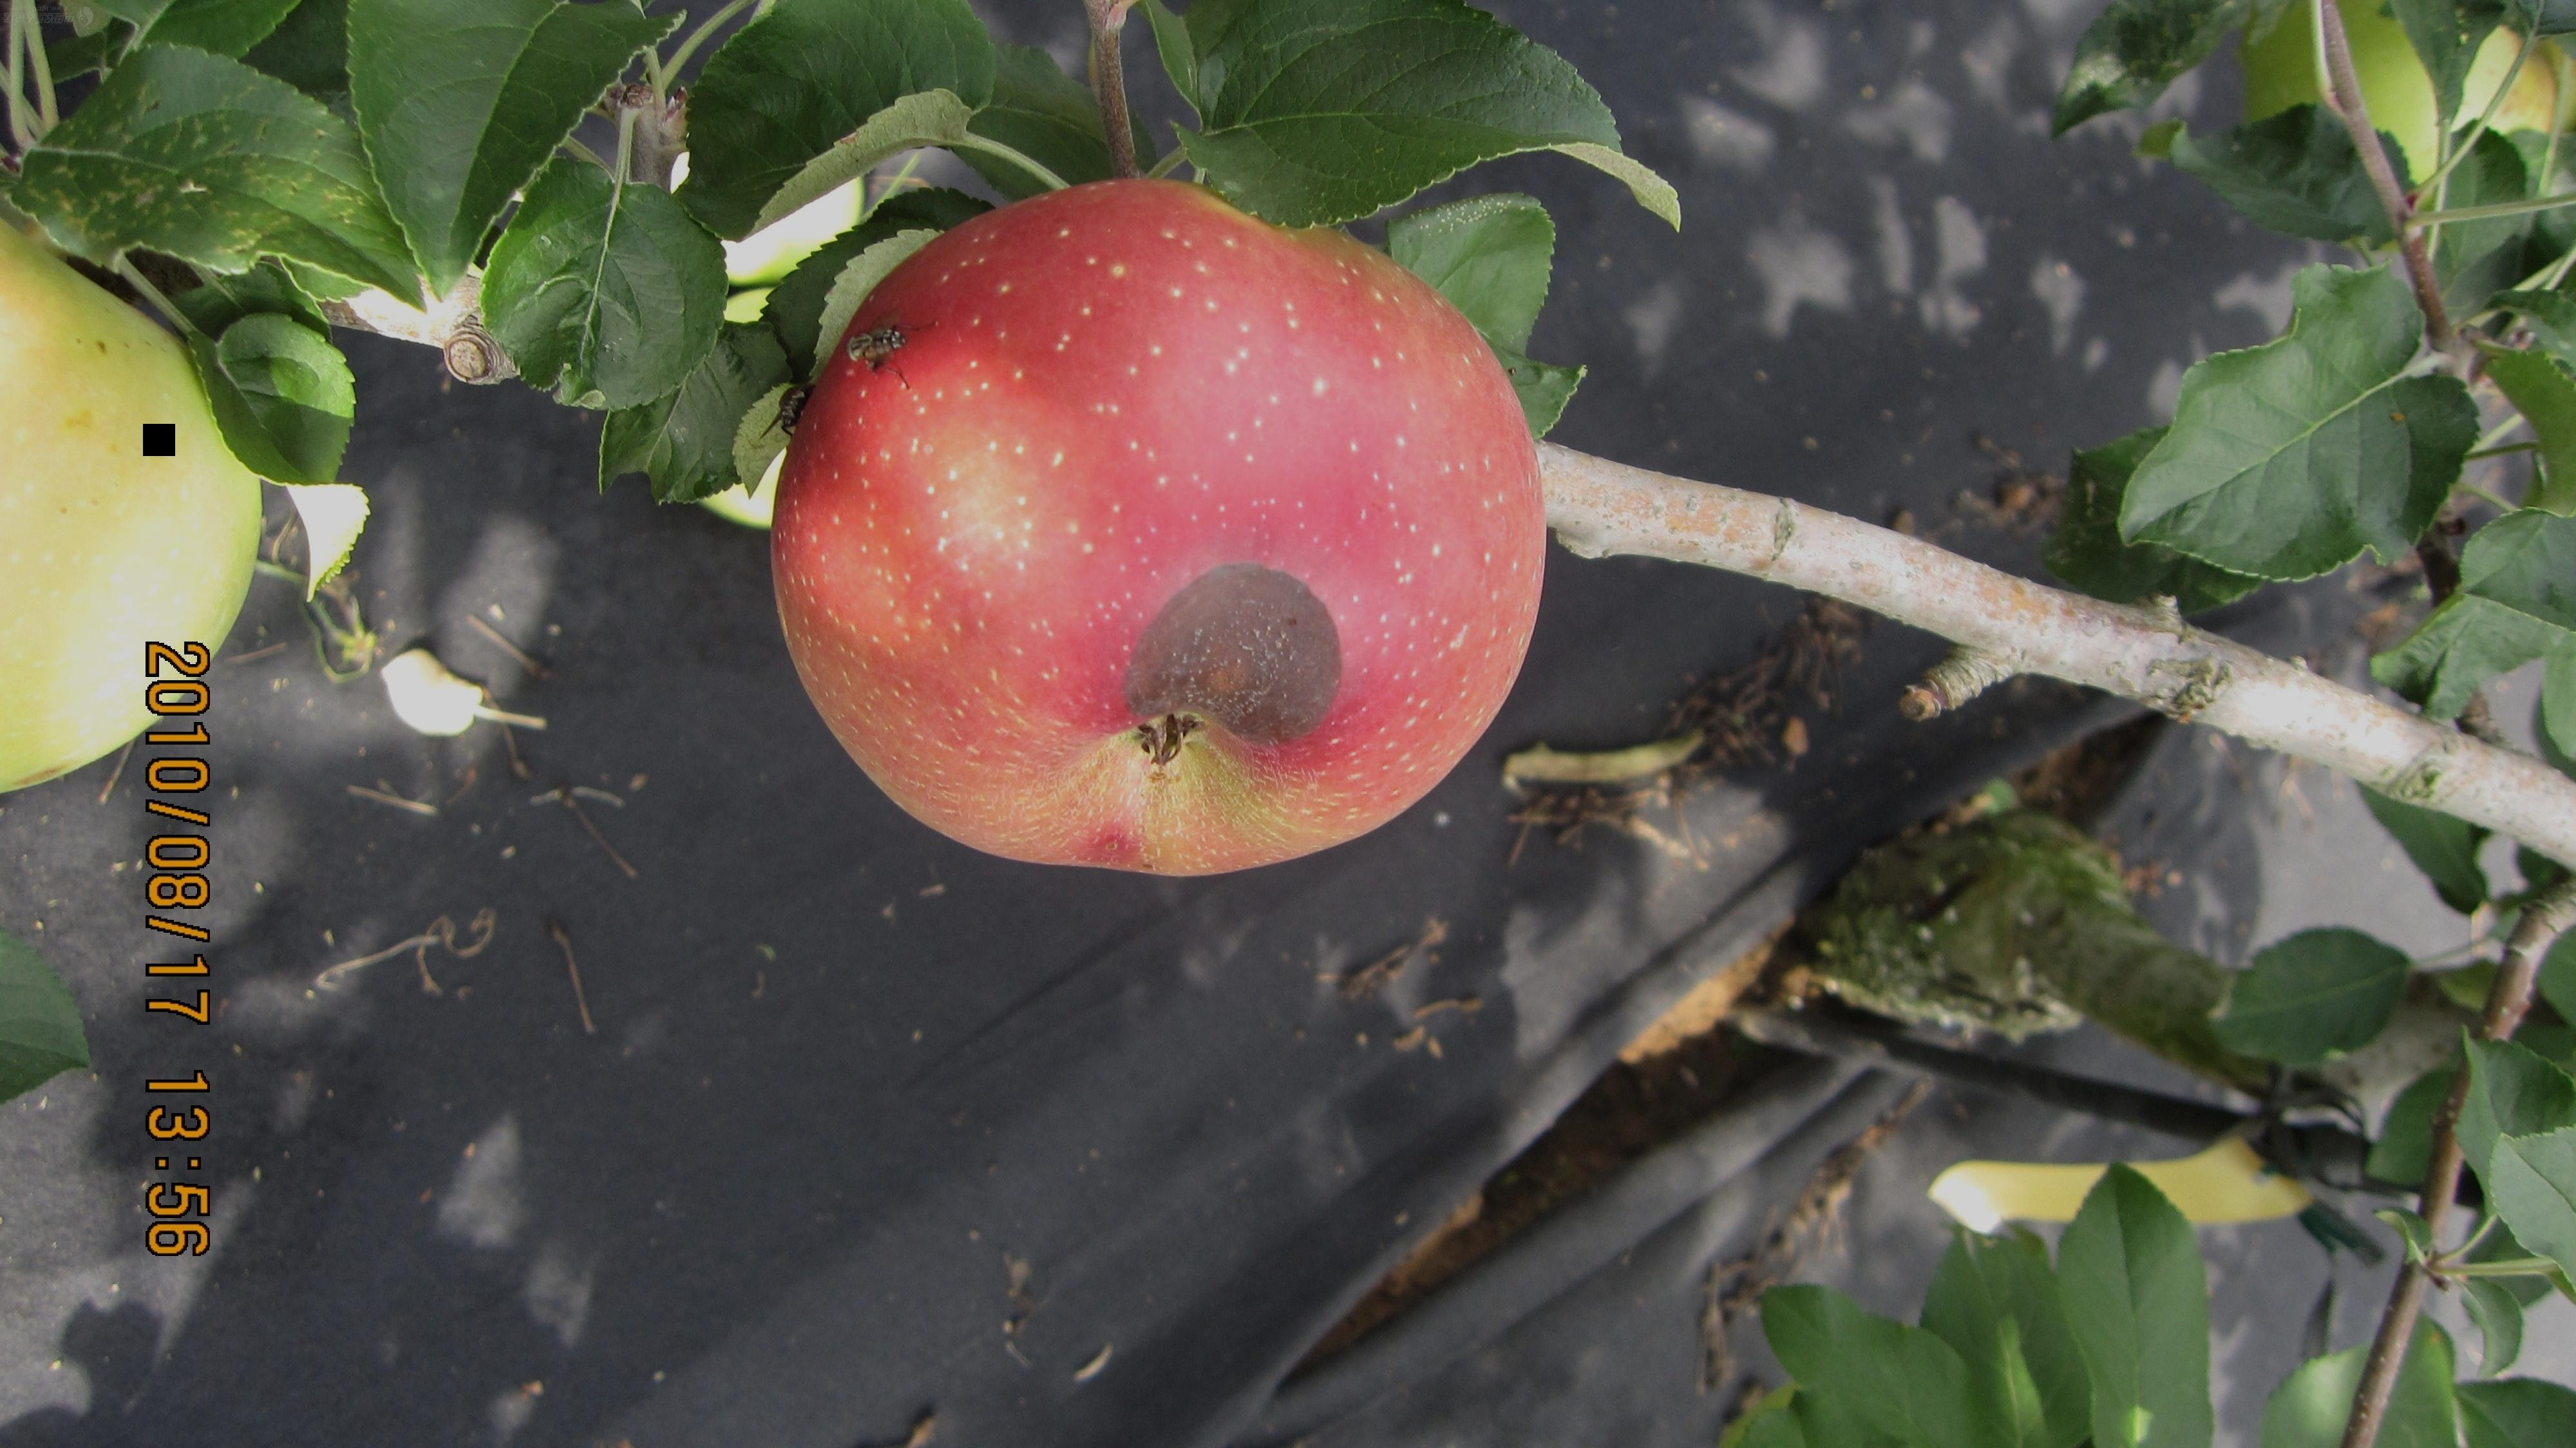rotten apple: (740, 165, 1568, 874)
